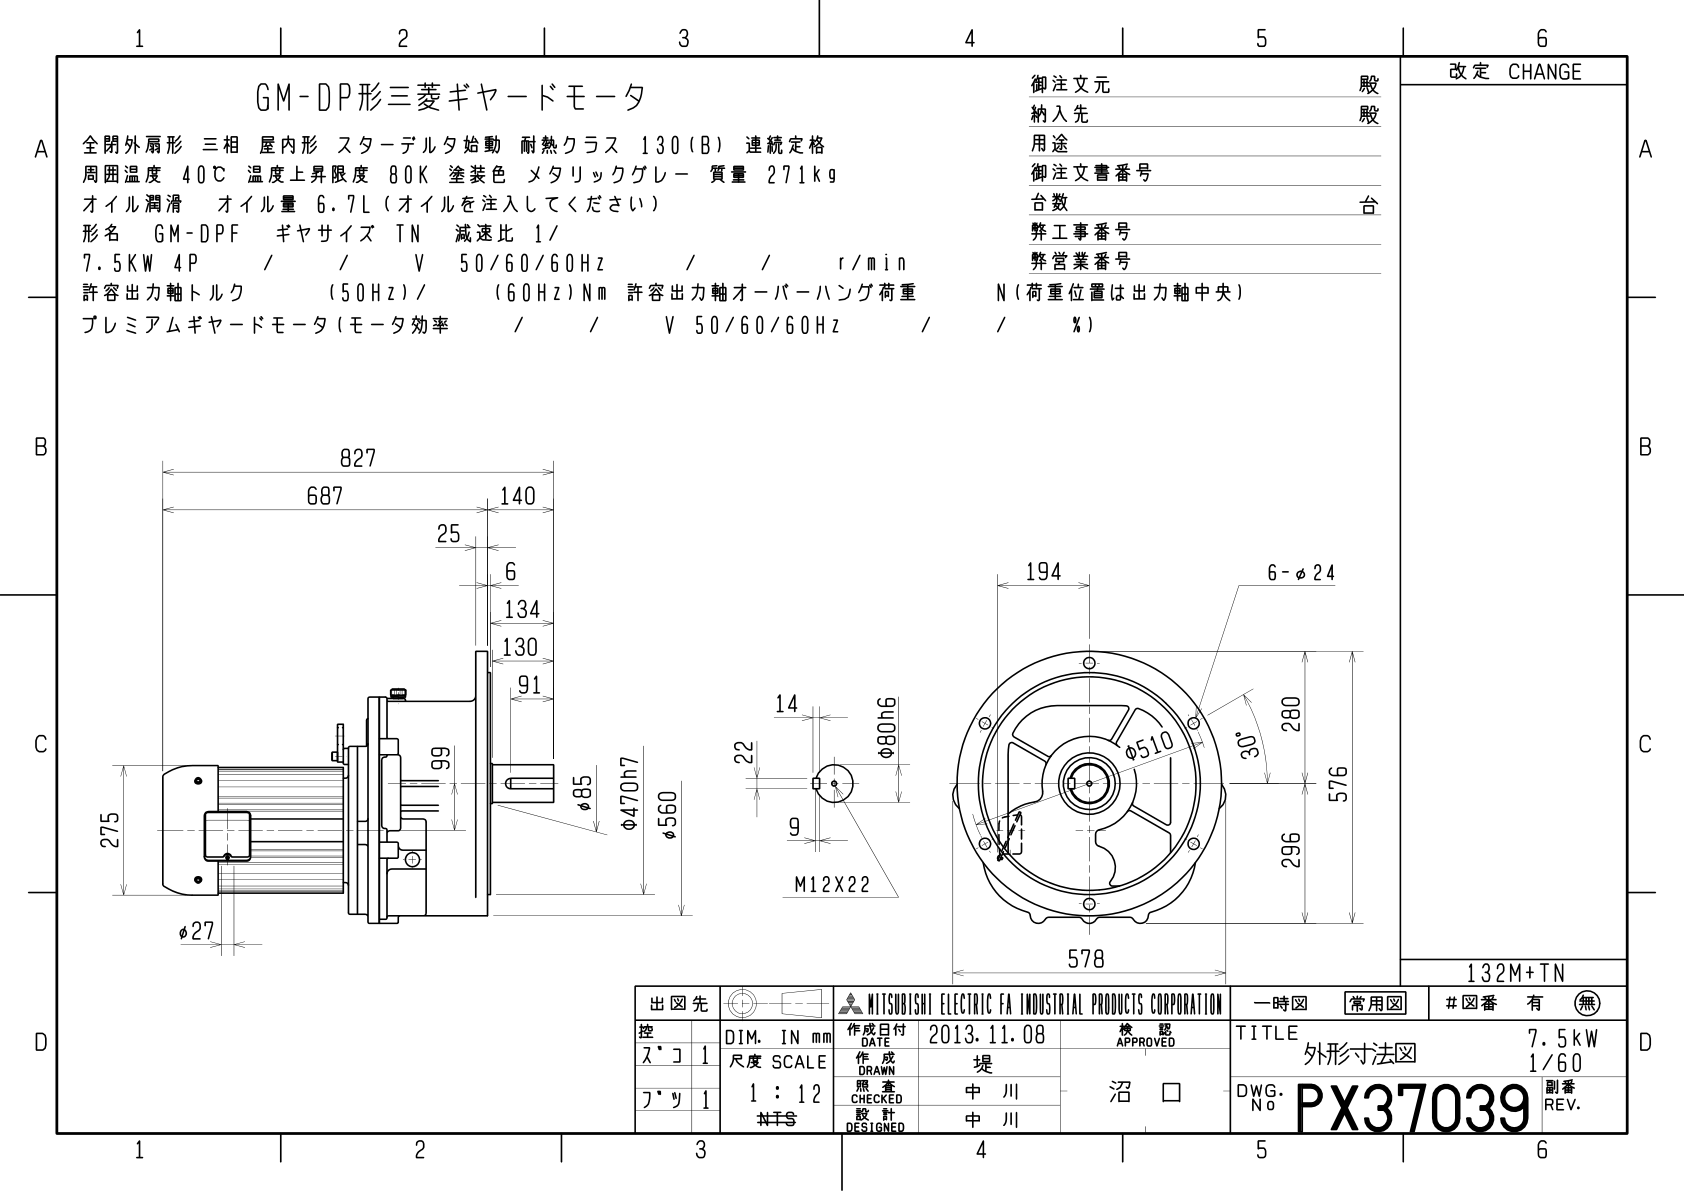GM_DP_屋内_三相_フランジ: (75, 375, 1379, 978)
